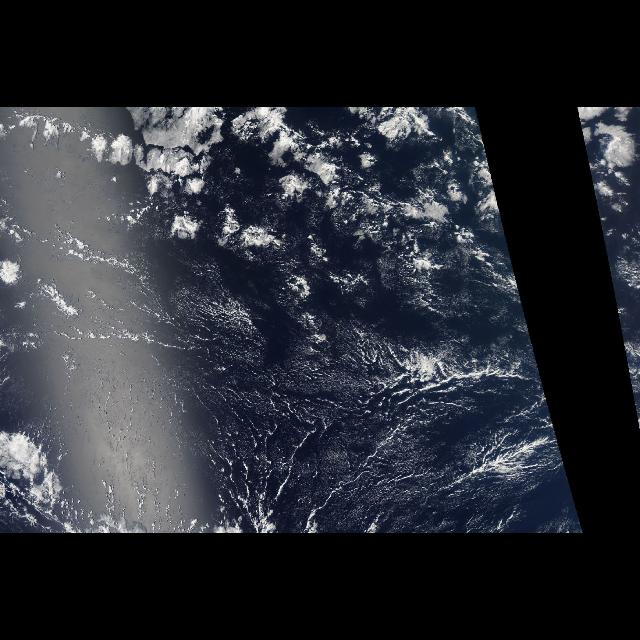Sugar: (302, 349, 456, 525)
